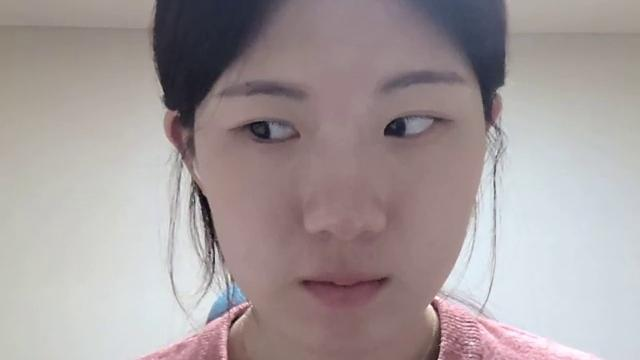eye: (381, 113, 405, 138), (245, 119, 270, 142)
iris: (384, 115, 433, 136), (247, 122, 301, 141)
